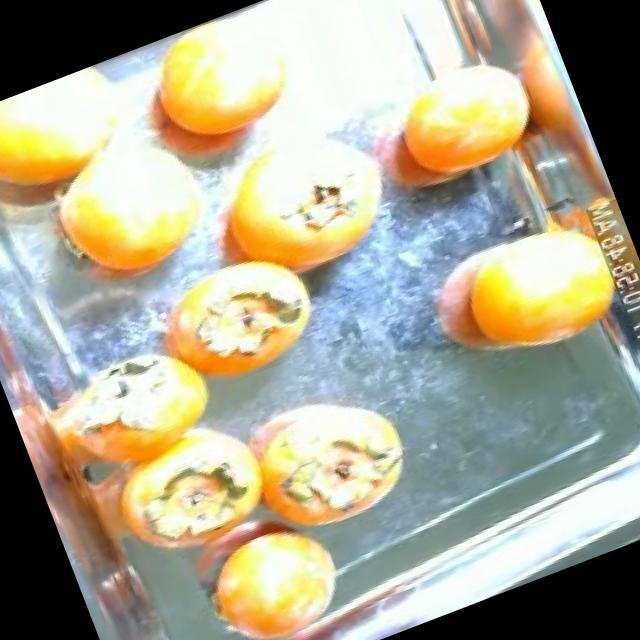Fruit: (410, 184, 640, 393), (181, 504, 367, 640)
